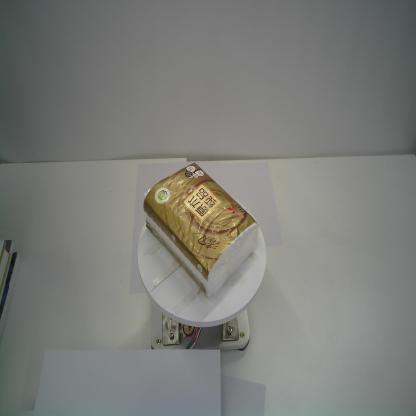Tissue: (143, 162, 258, 298)
